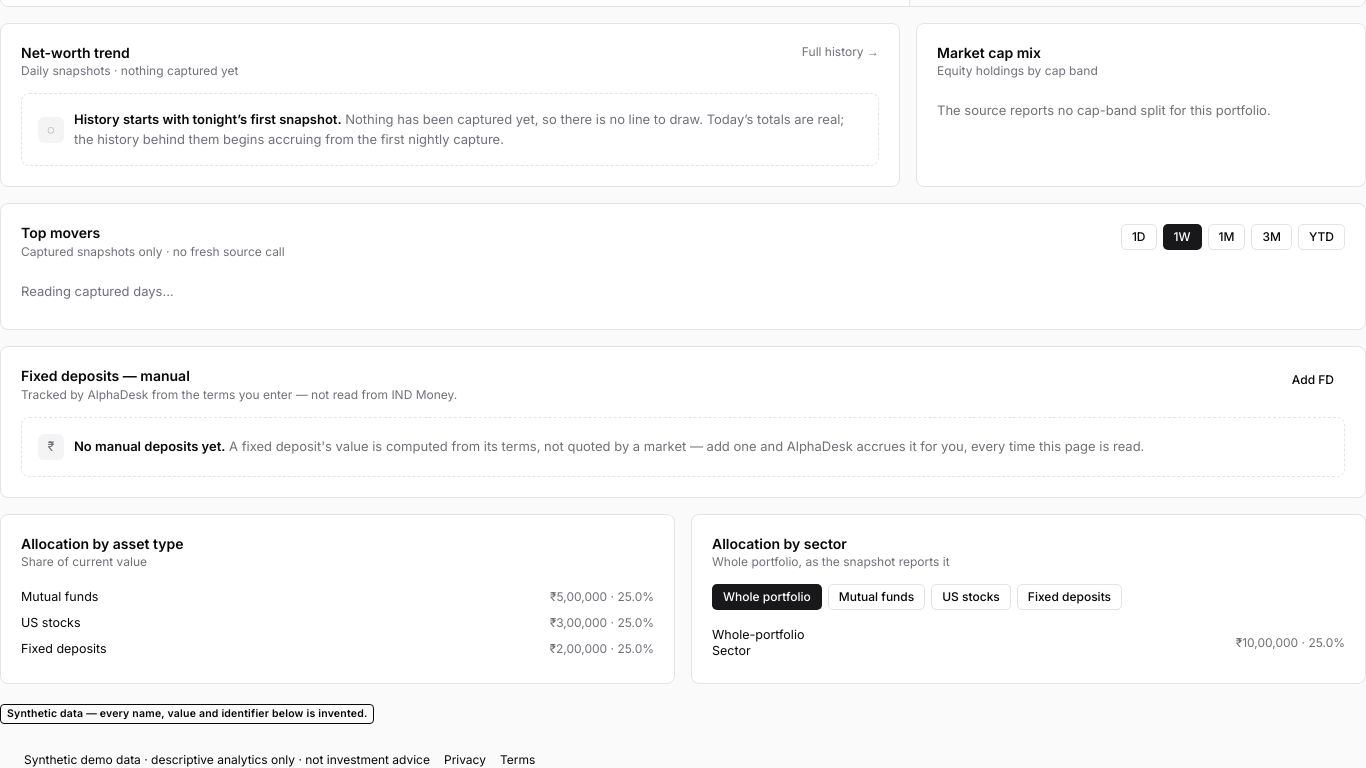
Scenario: sector drill-down race guard › never renders whole-portfolio sectors under a `Within …` heading
(page scrolled)
Check: the heading "Allocation by sector" is shown, box [712, 534, 847, 552]
Click the button "Fixed deposits" at point(1069, 597), box [1017, 584, 1122, 610]
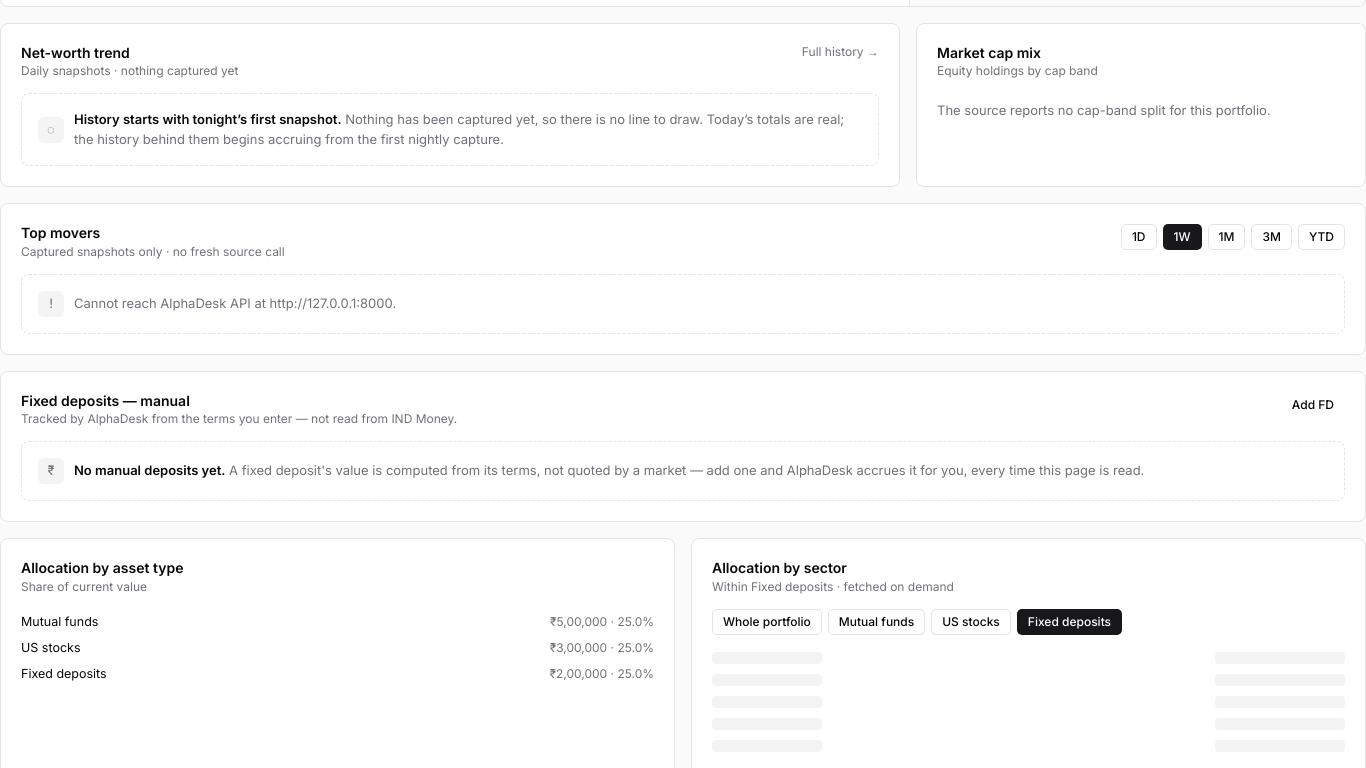
Check: the text "Within Fixed deposits · fetched on demand" is shown, box [712, 578, 954, 594]
Check: the text "Whole-portfolio Sector" is gone
